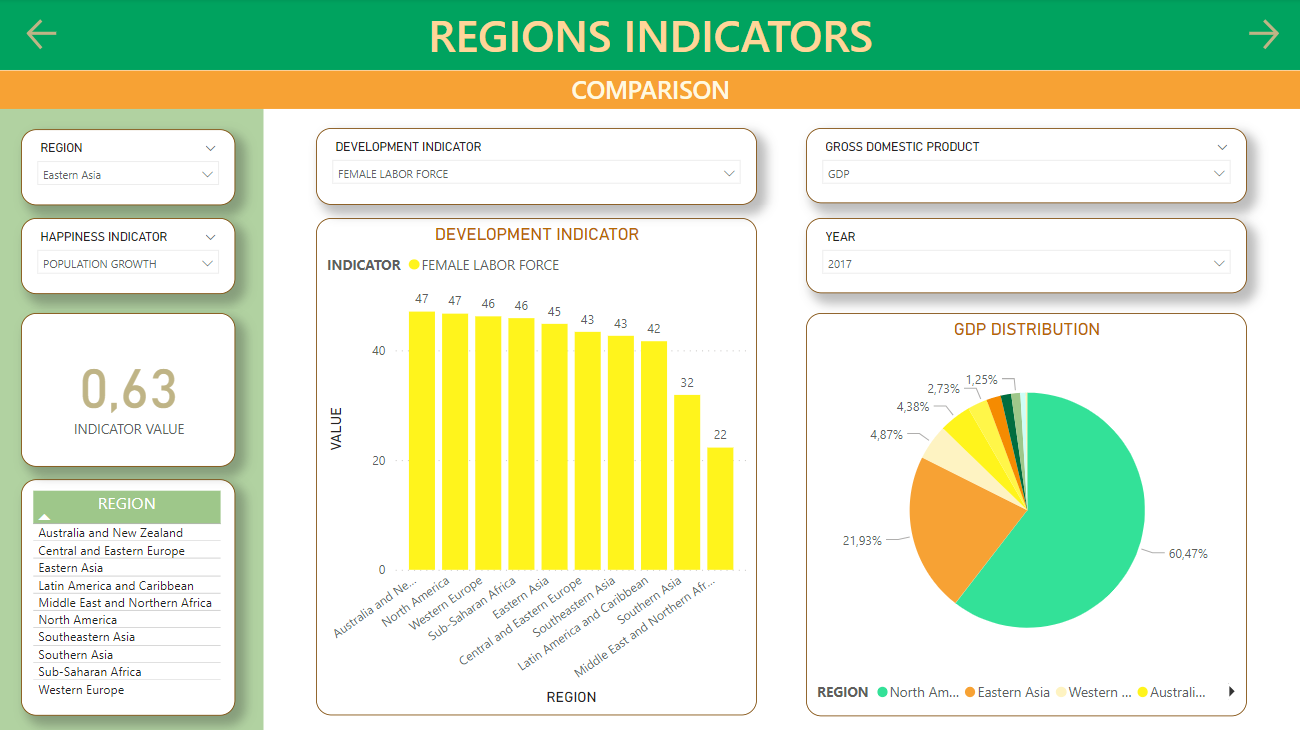

What the dashboard file says about the page in this screenshot:
{"tool":"powerbi","page":{"name":"REGIONS COMPARISON","canvas":[1280,720],"ordinal":5},"visuals":[{"type":"slicer","fields":{"Values":["FACT_TABLE.COUNTRY"]},"box":[359.1,359.1,156.5,49.7],"z":0},{"type":"shape","box":[0,88.4,261.5,631.7],"z":1000},{"type":"shape","box":[0,0,1280,70.1],"z":2000},{"type":"shape","box":[0,70.4,1280.5,37.4],"z":3000},{"type":"tableEx","fields":{"Values":["COUNTRIES.REGION"]},"box":[24.1,470.5,209.3,231.5],"z":4000},{"type":"slicer","fields":{"Values":["HAPPINESS_INDEX.COUNTRIES.REGION"]},"box":[24.1,127.8,209.3,74.1],"z":5000},{"type":"slicer","fields":{"Values":["HAPPINESS_INDEX.HAPPINESS_INDICATOR.HAPPINESS_INDICATOR"]},"box":[24.1,214.9,209.3,74.1],"z":6000},{"type":"card","fields":{"Values":["Avg(HAPPINESS_INDEX.VALUE_HAPPINESS)"]},"box":[24.1,307.5,209.3,150],"z":7000},{"type":"clusteredColumnChart","title":"DEVELOPMENT INDICATOR","fields":{"Category":["FACT_TABLE.COUNTRIES.REGION"],"Series":["FACT_TABLE.DEVELOPMENT_INDICATOR"],"Y":["Avg(FACT_TABLE.VALUE_DEVELOPMENT)"]},"box":[313.1,215.5,431,486.2],"z":8000},{"type":"pieChart","title":"GDP DISTRIBUTION","fields":{"Category":["FACT_TABLE.REGION"],"Y":["Avg(FACT_TABLE.VALUE_HAPPINESS)"]},"box":[791.9,307.6,431,394.1],"z":9000},{"type":"slicer","fields":{"Values":["FACT_TABLE.DEVELOPMENT_INDICATOR"]},"box":[313.1,127.1,431,75.5],"z":10000},{"type":"slicer","fields":{"Values":["FACT_TABLE.HAPPINESS_INDICATOR"]},"box":[791.9,127.1,431,73.7],"z":11000},{"type":"slicer","fields":{"Values":["FACT_TABLE.YEAR"]},"box":[791.9,215.5,431,73.7],"z":12000},{"type":"actionButton","box":[1158.8,15.6,99.7,39.1],"z":13000},{"type":"actionButton","box":[25.4,15.6,99.7,39.1],"z":14000}]}

Visuals, with their boxes in screenshot pixels (x1, y1, x2, y2), scaled from the page's 1280x720 canvas onto the 1300x730 screenshot:
slicer - FACT_TABLE.COUNTRY: pyautogui.locateOnScreen(365, 364, 524, 414)
shape: pyautogui.locateOnScreen(0, 90, 266, 729)
shape: pyautogui.locateOnScreen(0, 0, 1299, 71)
shape: pyautogui.locateOnScreen(0, 71, 1299, 109)
tableEx - COUNTRIES.REGION: pyautogui.locateOnScreen(24, 477, 237, 712)
slicer - HAPPINESS_INDEX.COUNTRIES.REGION: pyautogui.locateOnScreen(24, 130, 237, 205)
slicer - HAPPINESS_INDEX.HAPPINESS_INDICATOR.HAPPINESS_INDICATOR: pyautogui.locateOnScreen(24, 218, 237, 293)
card - Avg(HAPPINESS_INDEX.VALUE_HAPPINESS): pyautogui.locateOnScreen(24, 312, 237, 464)
"DEVELOPMENT INDICATOR" clusteredColumnChart: pyautogui.locateOnScreen(318, 218, 756, 711)
"GDP DISTRIBUTION" pieChart: pyautogui.locateOnScreen(804, 312, 1242, 711)
slicer - FACT_TABLE.DEVELOPMENT_INDICATOR: pyautogui.locateOnScreen(318, 129, 756, 205)
slicer - FACT_TABLE.HAPPINESS_INDICATOR: pyautogui.locateOnScreen(804, 129, 1242, 204)
slicer - FACT_TABLE.YEAR: pyautogui.locateOnScreen(804, 218, 1242, 293)
actionButton: pyautogui.locateOnScreen(1177, 16, 1278, 55)
actionButton: pyautogui.locateOnScreen(26, 16, 127, 55)
